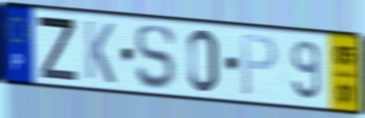0: (186, 27, 219, 95)
9: (289, 38, 322, 102)
K: (82, 18, 117, 87)
P: (240, 32, 280, 99)
S: (133, 23, 177, 92)
Z: (34, 14, 80, 84)
